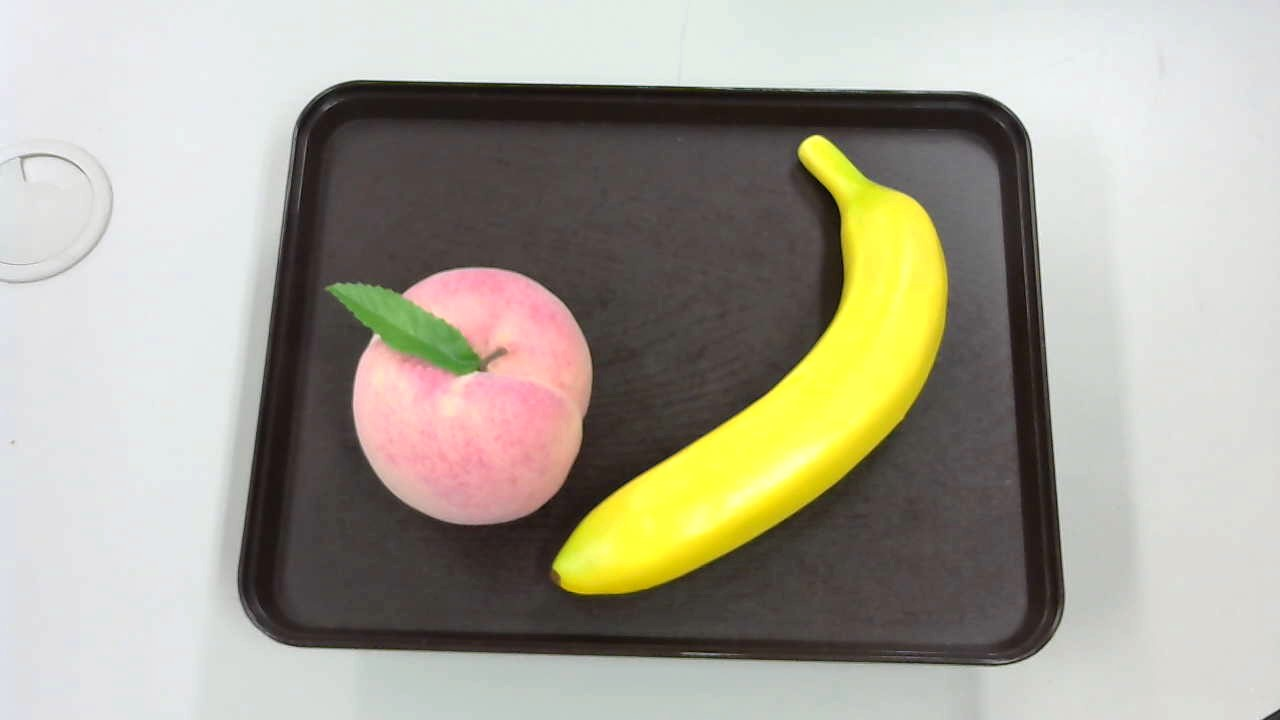banana: (537, 130, 954, 607)
peach: (321, 258, 596, 528)
